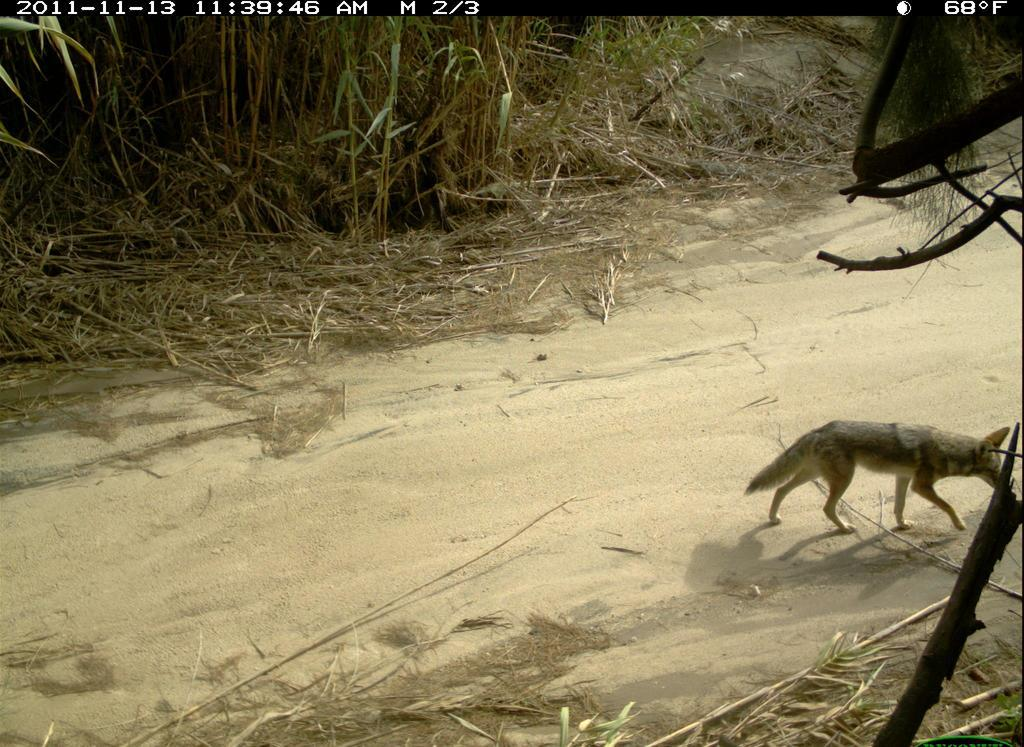coyote: (721, 361, 1012, 540)
